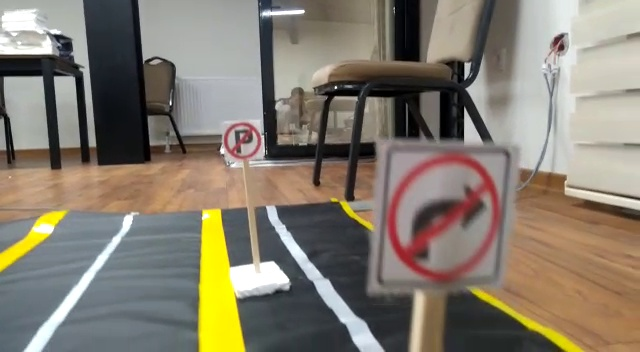park_yapilmaz: (222, 121, 263, 162)
saga_donulmez: (378, 146, 503, 286)
